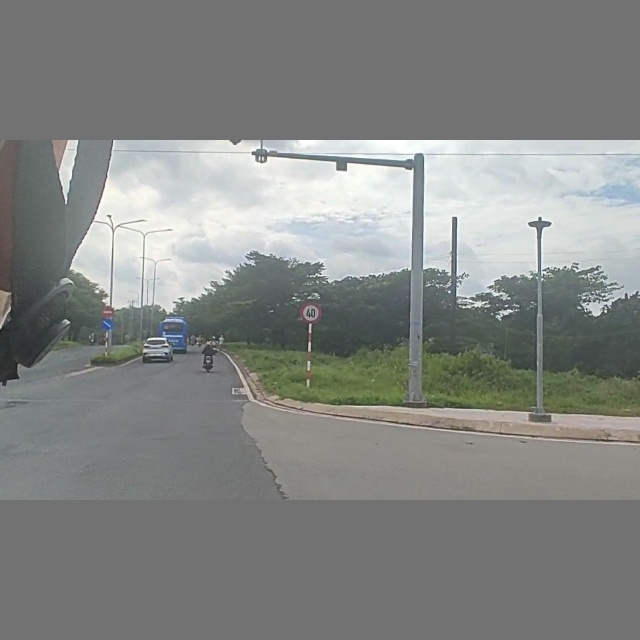P.102: (101, 305, 117, 318)
P.127*40: (301, 302, 323, 323)
R.302a: (100, 318, 114, 332)
